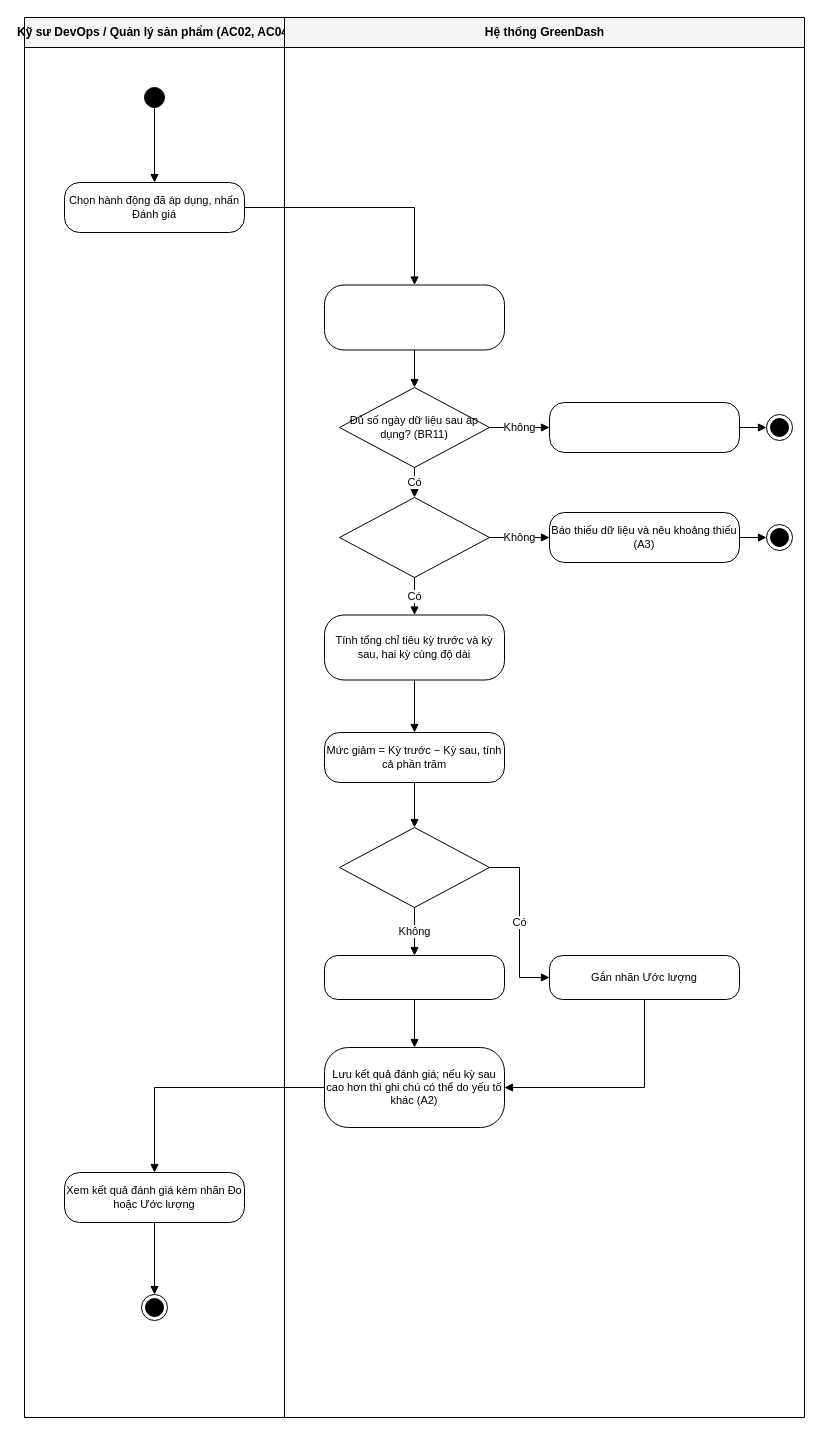
The diagram is 822 pixels wide and 1435 high, and some of its shapes have lost their labels. The shapes that lost their labels are listed below. From the top down, each one's centre as x and y in pixels, then its label:
At pixel 414 317: "Lấy hành động và mốc ngày áp dụng (include UC_GD_018)".
At pixel 644 427: "Báo Cần thêm N ngày, không tính (A1)".
At pixel 414 537: "Hai kỳ có dữ liệu liên tục?".
At pixel 414 867: "Có kỳ chứa số liệu ước lượng? (BR12)".
At pixel 414 977: "Gắn nhãn Đo".
